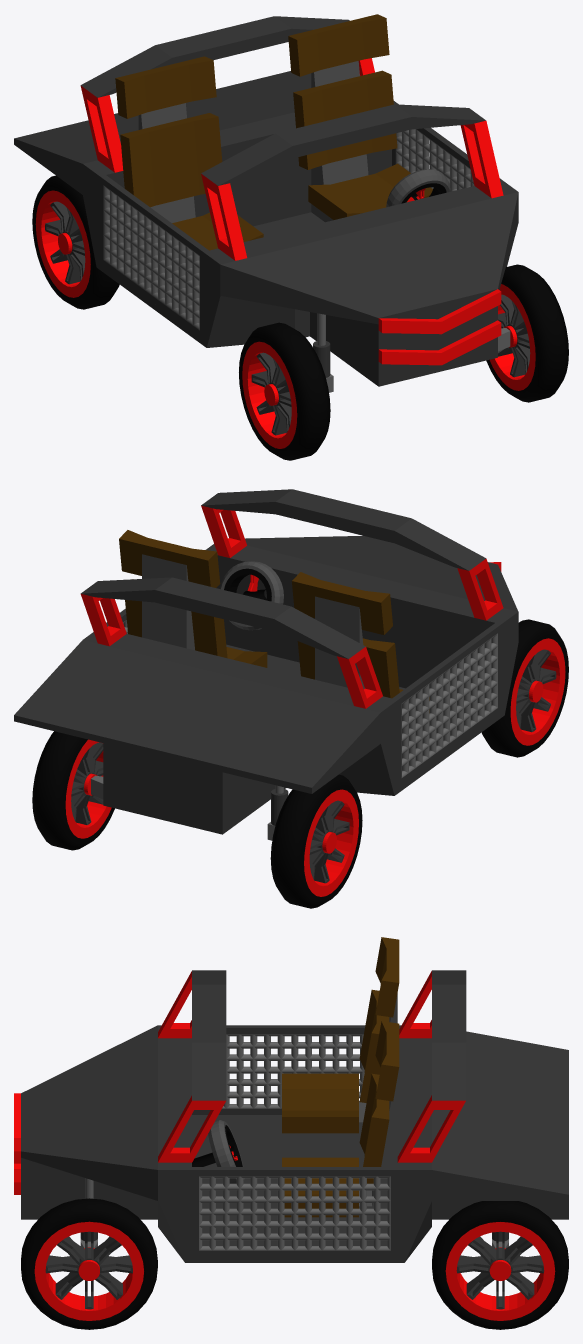
Rendered from rover.fbx.
The picture shows the model from 3 angles, top to bottom: view 1: azimuth 30°, elevation 25°; view 2: azimuth 150°, elevation 25°; view 3: azimuth 270°, elevation 25°; orthographic projection.
Parts seen in each view (by area): view 1: Cube.009, Cube.011, Cube.047, Cube.049, Cube.055, Cube.010, Cube.056, Cylinder.005, Cylinder.006, Cube.074, Cylinder.004, Cylinder.015 (+32 smaller); view 2: Cube.049, Cube.011, Cube.048, Cube.055, Cube.056, Cube.047, Cube.009, Cylinder.014, Cylinder.013, Cylinder.005, Cube.059, Cylinder.004 (+26 smaller); view 3: Cube.049, Cube.009, Cube.050, Cube.047, Cube.011, Cylinder.006, Cylinder.013, Cube.055, Cube.056, Cube.052, Cylinder.012, Cylinder.007 (+36 smaller).
Boxes of the visible parts, box(x1,y1,x2,y2) form: Cube.009: box(220, 192, 518, 324); Cube.011: box(203, 179, 517, 347); Cube.047: box(82, 101, 397, 269); Cube.049: box(14, 71, 311, 194); Cube.055: box(201, 104, 485, 185); Cube.010: box(310, 301, 497, 386); Cube.056: box(80, 16, 349, 97); Cylinder.005: box(239, 322, 330, 460); Cylinder.006: box(486, 264, 568, 402); Cube.074: box(143, 118, 199, 205); Cylinder.004: box(242, 341, 297, 448); Cylinder.015: box(35, 190, 90, 297); Cube.049: box(14, 640, 380, 793); Cube.011: box(205, 544, 518, 717); Cube.048: box(103, 743, 285, 834); Cube.055: box(201, 489, 485, 570); Cube.056: box(81, 577, 365, 658); Cube.047: box(83, 632, 397, 795); Cube.009: box(245, 535, 518, 611); Cylinder.014: box(270, 774, 362, 908); Cylinder.013: box(32, 731, 114, 850); Cylinder.005: box(481, 619, 568, 757); Cube.059: box(142, 554, 194, 650); Cylinder.004: box(510, 638, 565, 745); Cube.049: box(432, 1031, 568, 1200); Cube.009: box(21, 1025, 157, 1200); Cube.050: box(192, 1115, 397, 1262); Cube.047: box(397, 1025, 431, 1262); Cube.011: box(158, 1025, 191, 1262); Cylinder.006: box(21, 1198, 157, 1329); Cylinder.013: box(432, 1201, 568, 1329); Cube.055: box(192, 970, 226, 1100); Cube.056: box(432, 970, 466, 1100); Cube.052: box(192, 1167, 397, 1256); Cylinder.012: box(445, 1222, 555, 1320); Cylinder.007: box(34, 1221, 143, 1320).
Bounding box in the file's own units: 500 × 429 × 810.
